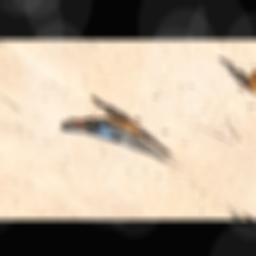Swallow: (51, 105, 188, 185)
